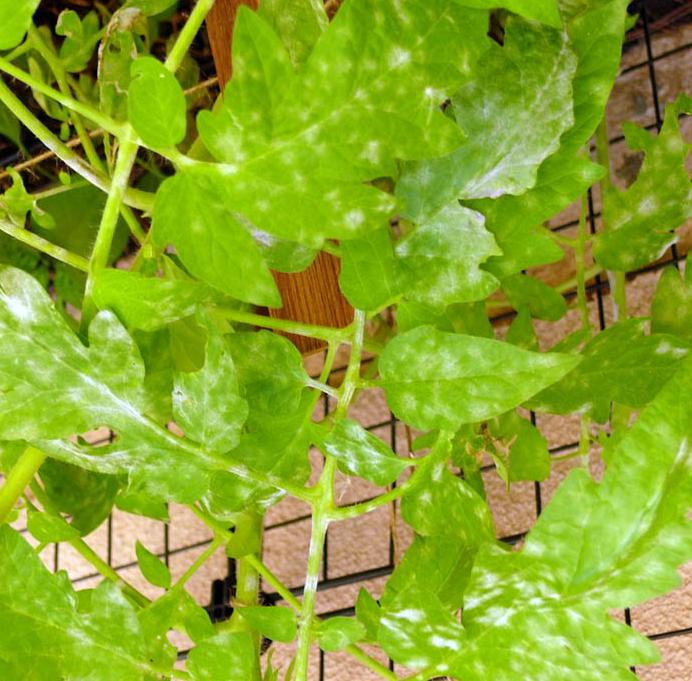Tomato mold leaf: (434, 206, 692, 681), (139, 0, 478, 309), (0, 195, 244, 506), (0, 531, 194, 681), (359, 329, 606, 434), (303, 416, 395, 487)
